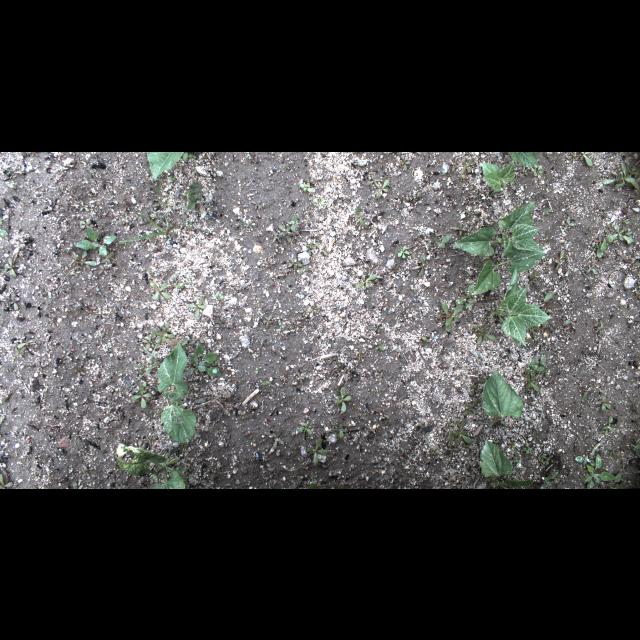crop: (452, 200, 544, 256), (488, 272, 554, 350), (156, 341, 196, 442), (114, 441, 190, 487), (475, 246, 545, 294), (478, 437, 534, 488), (480, 366, 526, 426), (480, 158, 520, 192), (146, 152, 190, 178), (510, 151, 542, 165)
weed: (123, 188, 197, 242), (587, 216, 637, 258), (572, 450, 630, 486), (74, 217, 118, 259), (430, 297, 466, 335), (127, 349, 161, 387), (600, 156, 636, 190), (67, 252, 113, 278), (189, 342, 221, 378), (440, 418, 474, 450), (136, 322, 174, 348), (522, 356, 550, 390), (332, 384, 360, 414), (301, 437, 329, 467), (175, 182, 202, 212), (270, 216, 300, 242), (365, 169, 389, 199), (130, 382, 154, 408), (473, 322, 499, 346), (455, 284, 475, 314), (12, 332, 36, 356), (450, 153, 476, 174), (85, 160, 109, 182), (428, 230, 452, 252), (184, 296, 206, 318), (554, 245, 574, 268), (150, 280, 172, 300), (286, 252, 306, 274), (454, 397, 478, 415), (414, 253, 434, 274), (566, 152, 596, 166), (296, 300, 322, 316), (352, 204, 368, 230), (304, 240, 328, 256), (358, 272, 377, 292), (537, 469, 559, 486), (2, 255, 20, 275), (258, 312, 274, 333), (170, 273, 186, 293), (270, 428, 286, 448), (592, 316, 608, 336), (7, 292, 21, 314), (297, 418, 313, 436), (597, 394, 613, 412), (278, 318, 292, 338), (329, 422, 349, 436), (0, 215, 12, 238), (4, 165, 20, 182), (254, 375, 276, 387), (560, 213, 576, 229), (211, 291, 229, 305), (601, 416, 615, 434), (243, 152, 260, 166), (534, 202, 552, 215), (2, 470, 15, 488), (34, 358, 50, 372), (72, 364, 88, 378), (308, 195, 324, 209), (397, 242, 411, 258), (452, 220, 466, 236), (558, 268, 574, 282), (528, 272, 544, 286), (539, 452, 553, 468), (586, 261, 602, 275), (387, 262, 403, 276), (160, 173, 180, 184), (296, 180, 314, 192), (582, 384, 594, 402), (400, 154, 412, 172), (380, 404, 390, 424), (542, 290, 556, 304), (78, 200, 94, 212), (416, 331, 432, 343), (240, 214, 253, 228), (563, 315, 581, 325), (122, 312, 136, 324), (268, 280, 282, 292), (465, 204, 479, 216), (374, 338, 386, 352), (522, 440, 534, 454), (522, 168, 542, 176), (250, 200, 262, 212), (263, 256, 275, 268), (407, 188, 419, 200), (250, 362, 260, 374), (296, 372, 304, 384)
